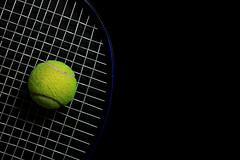tennis ball: (27, 59, 77, 110)
